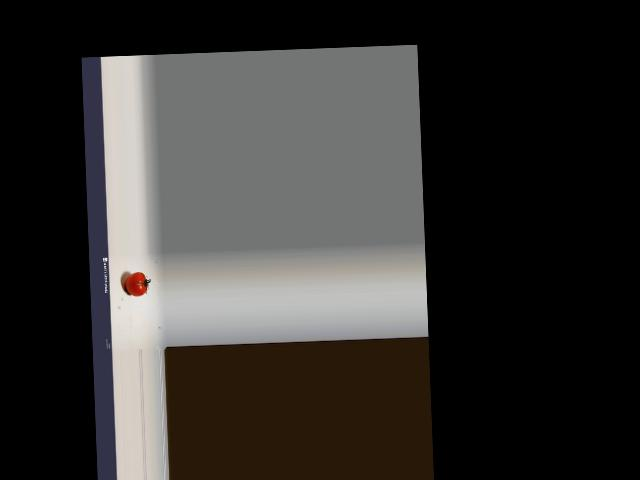tomato: (124, 272, 147, 297)
